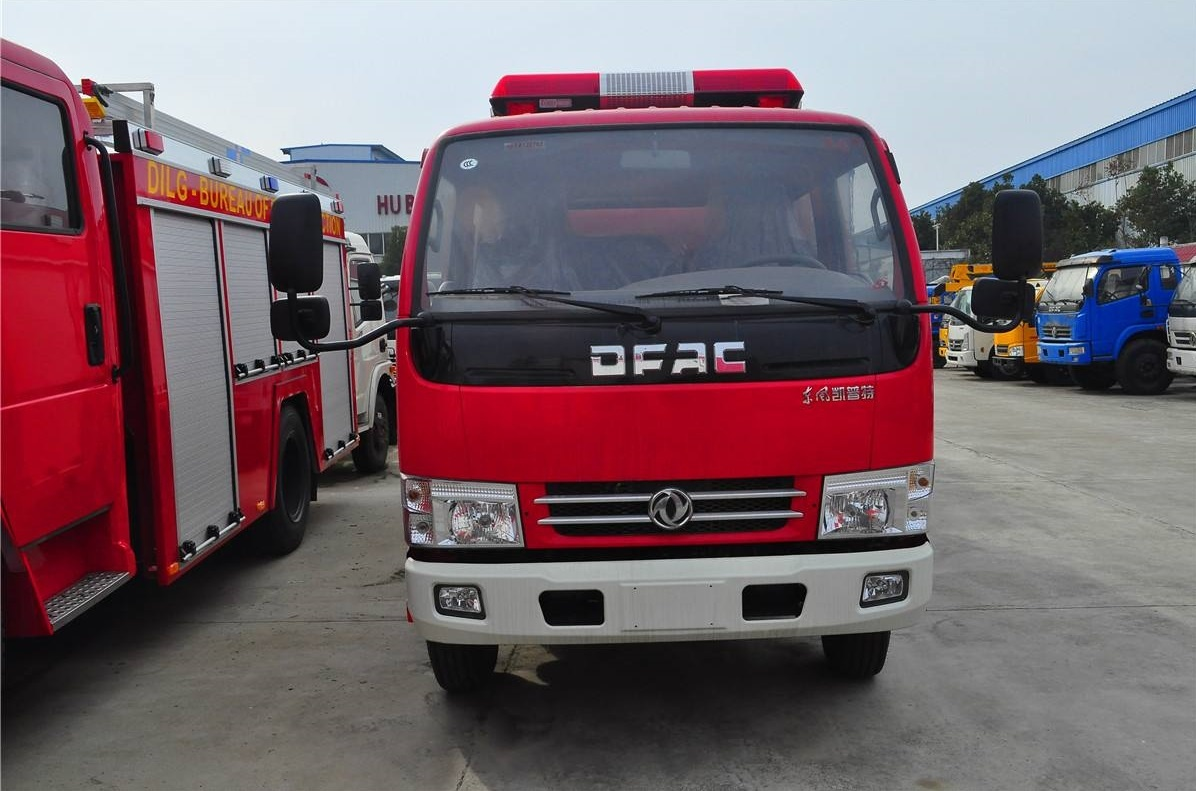fire engine: (358, 62, 977, 721)
